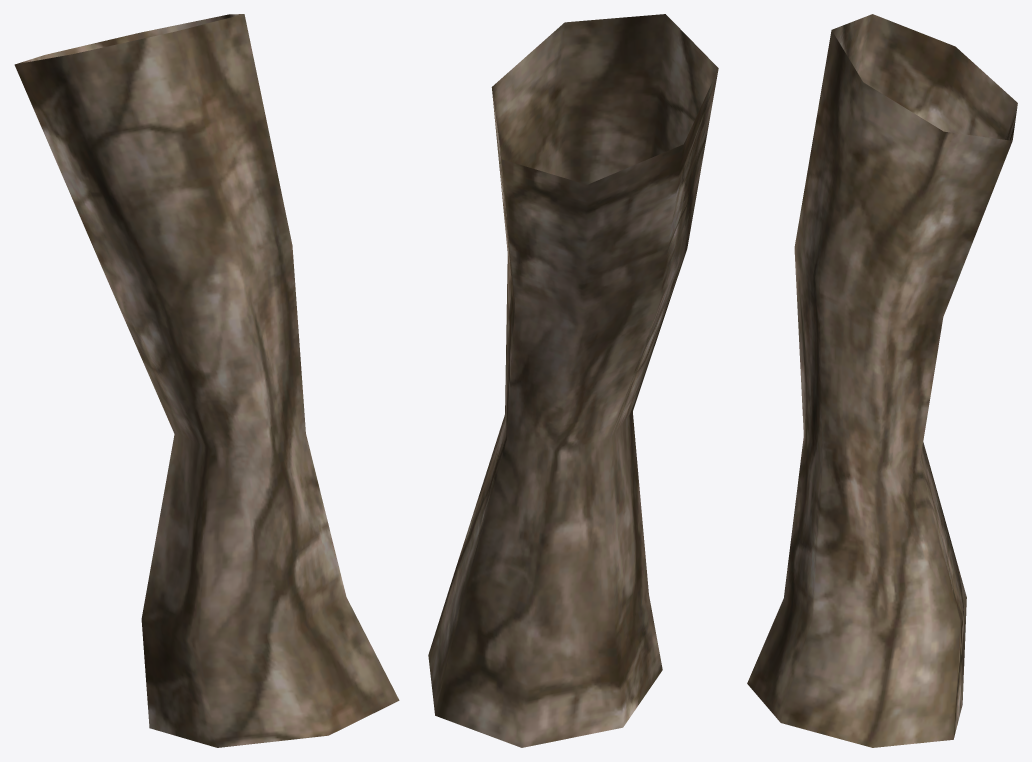
The model's file is EKH_JAIL_PS_JA_PILLAR9383777.fbx.
3 views of the same model, side by side, from view 1: azimuth 30°, elevation 25°; view 2: azimuth 150°, elevation 25°; view 3: azimuth 270°, elevation 25° (orthographic). The views are drawn at different scales.
Visible parts, largest first — view 1: EKH_JAIL_PS_JA_PILLAR9383777; view 2: EKH_JAIL_PS_JA_PILLAR9383777; view 3: EKH_JAIL_PS_JA_PILLAR9383777.
Part boxes in pixels (x1=…): EKH_JAIL_PS_JA_PILLAR9383777: x1=14, y1=14, x2=399, y2=747; EKH_JAIL_PS_JA_PILLAR9383777: x1=428, y1=14, x2=718, y2=747; EKH_JAIL_PS_JA_PILLAR9383777: x1=747, y1=14, x2=1017, y2=747.
Bounding box in the file's own units: 19480 × 43315 × 16556.
1 material, 1 textured.
